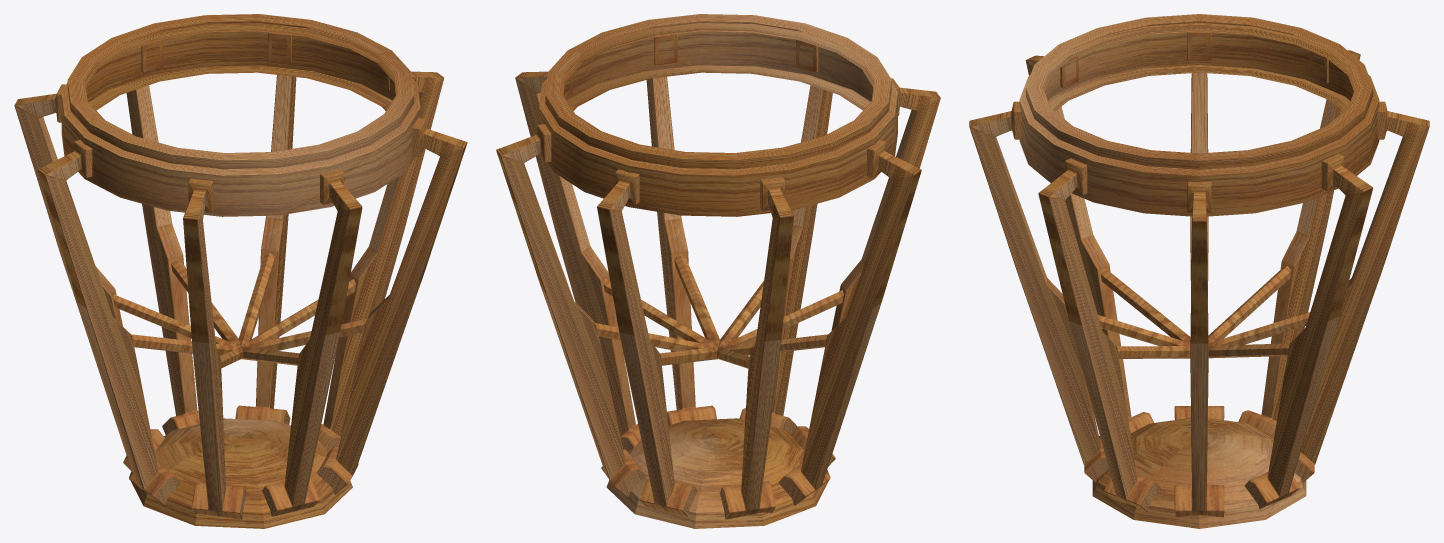
Rendered from Tambores fbx proyecto Tambor 1 parte abajo.fbx.
The picture shows the model from 3 angles, left to right: view 1: azimuth 30°, elevation 25°; view 2: azimuth 150°, elevation 25°; view 3: azimuth 270°, elevation 25°; orthographic projection.
Parts seen in each view (by area): view 1: simpleSetPercussion1:pPipe1, simpleSetPercussion1:pPipe2, simpleSetPercussion1:pCube3, simpleSetPercussion1:pCube8, simpleSetPercussion1:pSphere2, simpleSetPercussion1:pCube4, simpleSetPercussion1:pCube7, simpleSetPercussion1:pCube1, simpleSetPercussion1:pCube2, simpleSetPercussion1:pCube5, simpleSetPercussion1:pCube6, simpleSetPercussion1:pCylinder6 (+6 smaller); view 2: simpleSetPercussion1:pPipe1, simpleSetPercussion1:pPipe2, simpleSetPercussion1:pCube3, simpleSetPercussion1:pCube5, simpleSetPercussion1:pSphere2, simpleSetPercussion1:pCube2, simpleSetPercussion1:pCube6, simpleSetPercussion1:pCube1, simpleSetPercussion1:pCube8, simpleSetPercussion1:pCube4, simpleSetPercussion1:pCube7, simpleSetPercussion1:pCylinder9 (+6 smaller); view 3: simpleSetPercussion1:pPipe1, simpleSetPercussion1:pPipe2, simpleSetPercussion1:pCube5, simpleSetPercussion1:pSphere2, simpleSetPercussion1:pCube8, simpleSetPercussion1:pCube4, simpleSetPercussion1:pCube2, simpleSetPercussion1:pCube1, simpleSetPercussion1:pCube6, simpleSetPercussion1:pCube7, simpleSetPercussion1:pCube3, simpleSetPercussion1:pCylinder8 (+5 smaller).
Boxes of the visible parts, x1,y1,x2,y2 form: simpleSetPercussion1:pPipe1: (61,30,420,216); simpleSetPercussion1:pPipe2: (67,14,414,169); simpleSetPercussion1:pCube3: (37,140,180,505); simpleSetPercussion1:pCube8: (317,118,467,494); simpleSetPercussion1:pSphere2: (129,418,352,528); simpleSetPercussion1:pCube4: (262,169,362,516); simpleSetPercussion1:pCube7: (183,178,246,519); simpleSetPercussion1:pCube1: (318,71,443,450); simpleSetPercussion1:pCube2: (126,40,199,434); simpleSetPercussion1:pCube5: (235,32,296,424); simpleSetPercussion1:pCube6: (14,84,164,472); simpleSetPercussion1:pCylinder6: (238,253,274,346); simpleSetPercussion1:pPipe1: (539,30,897,216); simpleSetPercussion1:pPipe2: (545,14,891,169); simpleSetPercussion1:pCube3: (778,140,921,505); simpleSetPercussion1:pCube5: (496,124,645,497); simpleSetPercussion1:pSphere2: (606,418,830,528); simpleSetPercussion1:pCube2: (597,169,697,516); simpleSetPercussion1:pCube6: (720,177,793,519); simpleSetPercussion1:pCube1: (515,71,641,451); simpleSetPercussion1:pCube8: (646,34,716,425); simpleSetPercussion1:pCube4: (739,40,832,433); simpleSetPercussion1:pCube7: (791,78,940,466); simpleSetPercussion1:pCylinder9: (674,254,719,346); simpleSetPercussion1:pPipe1: (1019,30,1379,216); simpleSetPercussion1:pPipe2: (1026,14,1372,169); simpleSetPercussion1:pCube5: (1244,154,1373,509); simpleSetPercussion1:pSphere2: (1092,418,1306,528); simpleSetPercussion1:pCube8: (1038,158,1160,511); simpleSetPercussion1:pCube4: (969,101,1108,482); simpleSetPercussion1:pCube2: (1295,101,1429,482); simpleSetPercussion1:pCube1: (1174,181,1224,517); simpleSetPercussion1:pCube6: (1238,50,1360,436); simpleSetPercussion1:pCube7: (1025,55,1154,438); simpleSetPercussion1:pCube3: (1174,31,1224,419); simpleSetPercussion1:pCylinder8: (1100,269,1190,342).
Bounding box in the file's own units: 8.9 × 8.42 × 8.9.
Materials: 1 (1 with a texture image).
